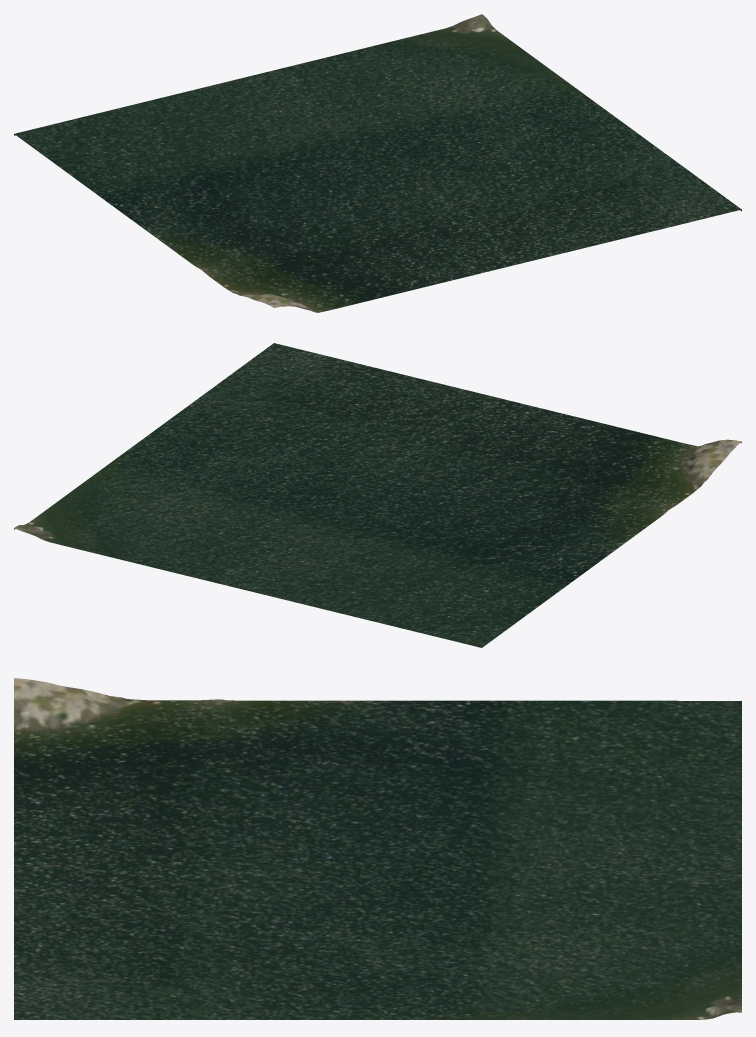
3 renders of one model, top to bottom at view 1: azimuth 30°, elevation 25°; view 2: azimuth 150°, elevation 25°; view 3: azimuth 270°, elevation 25°, orthographic. The views are drawn at different scales.
Bounding box in the file's own units: 250 × 9.28 × 241.
Materials: 1 (1 with a texture image).
